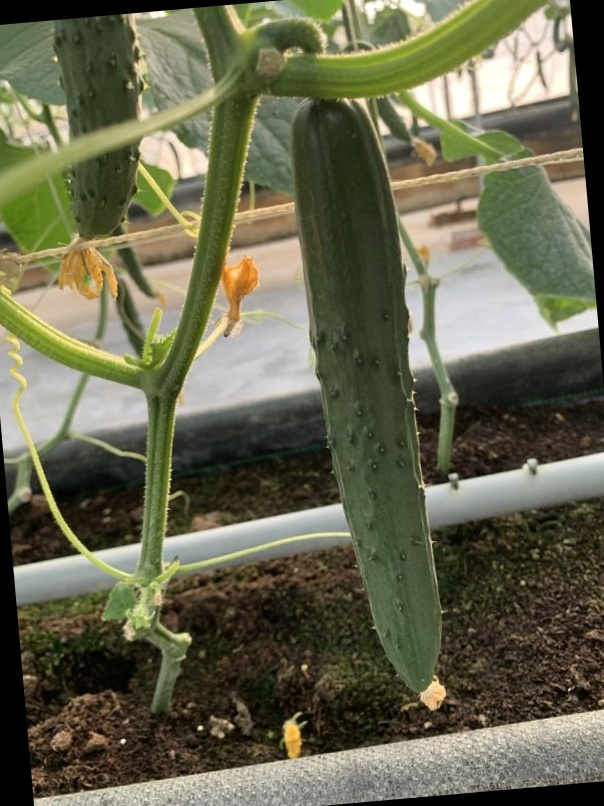mature: (273, 138, 461, 692)
